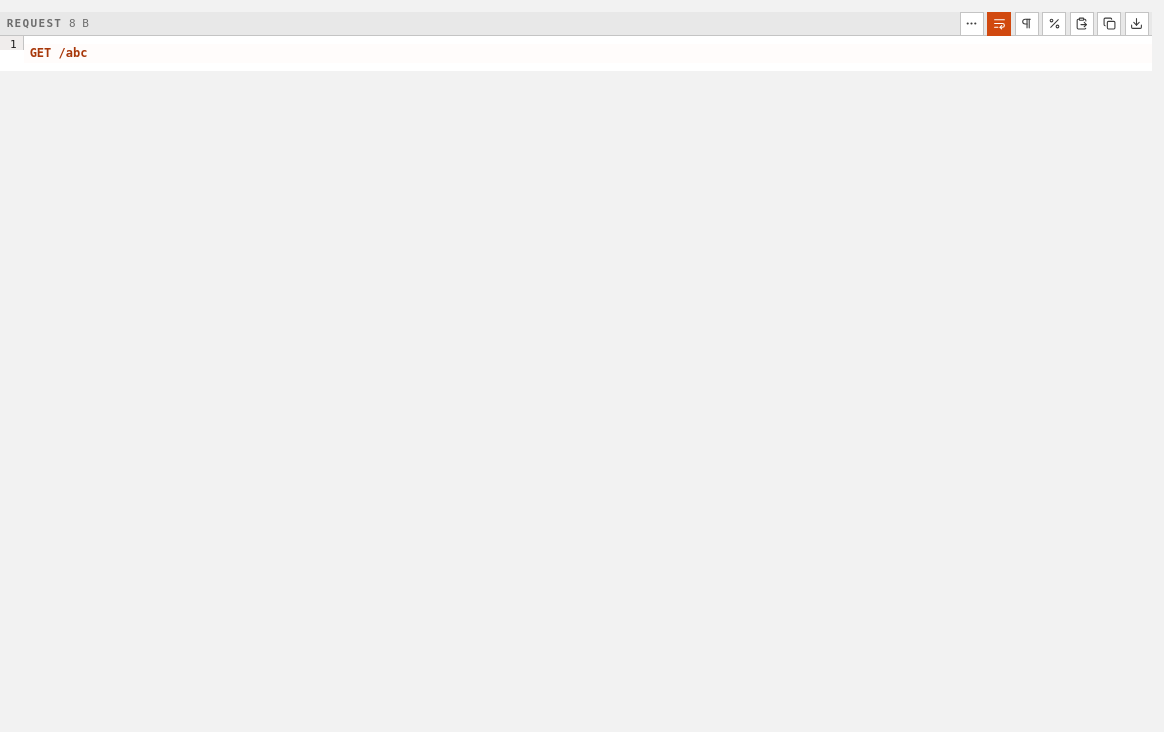
Test: the palette's copy of the editor's selection codecs › the rendered menu really lists codec rows, so an empty read can never pass this file
Expected: the element with class "cm-editor" is shown, 0,36 -> 1152,71
Right-click the field with class "cm-content" at (588, 53), box 24,44 -> 1152,63
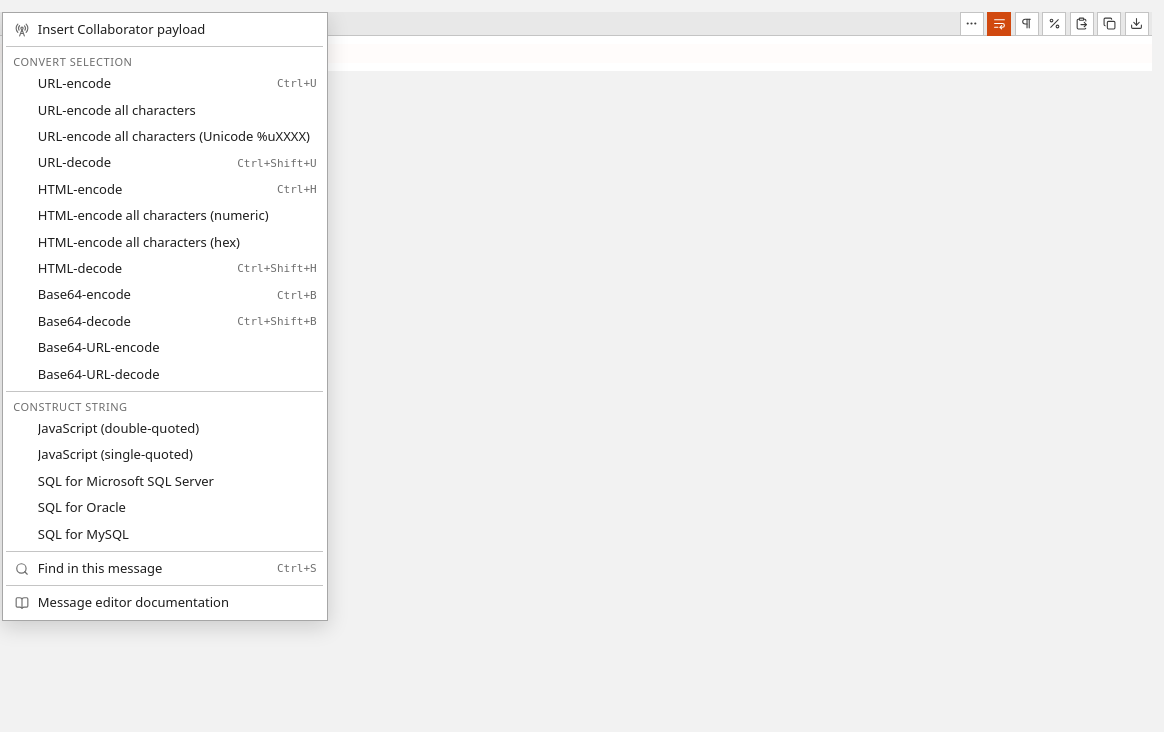
Result: the text "Find in this message" is shown at 38,559 -> 162,577
